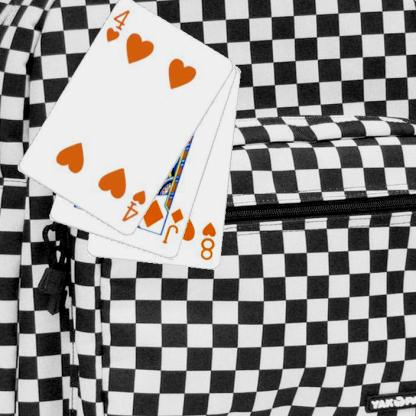4H: (118, 187, 147, 224), (103, 7, 131, 44)
8H: (198, 220, 217, 262)
JD: (160, 206, 186, 246)
